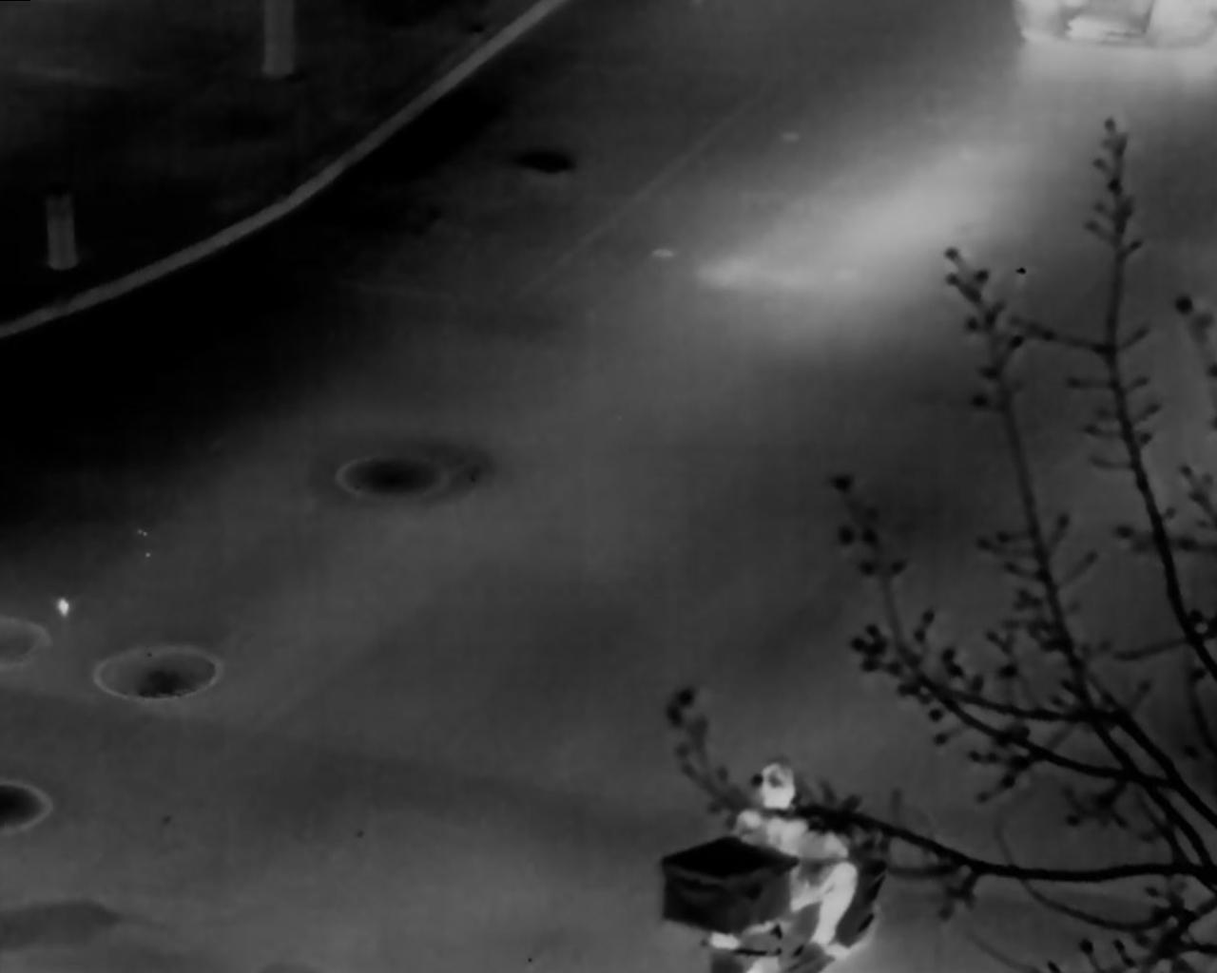person: (707, 754, 856, 961)
